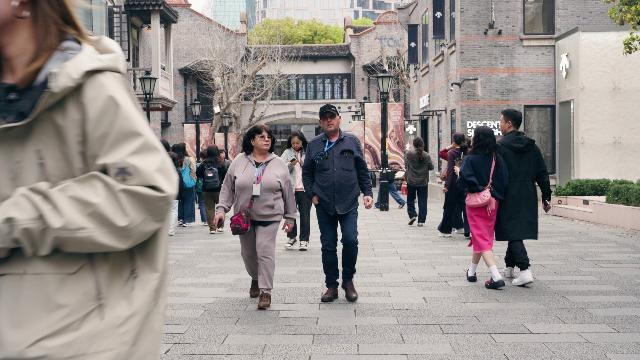person: (0, 0, 179, 360), (213, 124, 298, 310), (302, 104, 374, 302), (494, 109, 552, 286), (454, 125, 508, 289), (280, 130, 312, 251), (437, 132, 471, 238), (196, 144, 228, 234), (404, 136, 435, 227), (171, 143, 197, 227)
